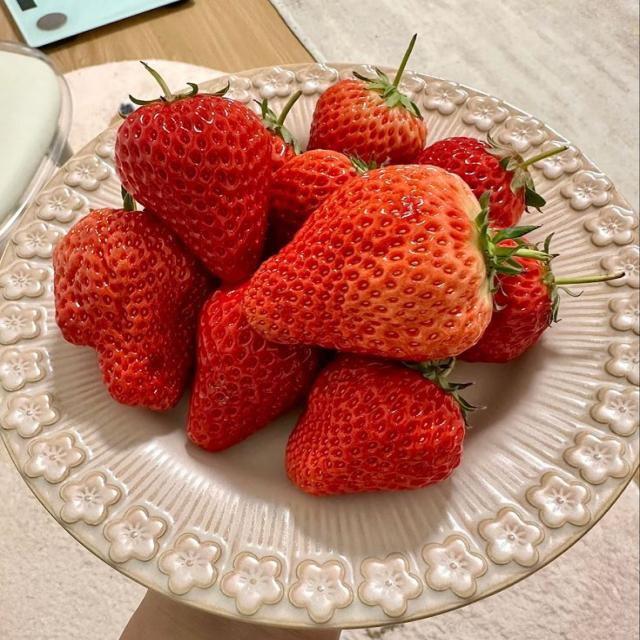strawberry: (244, 165, 545, 361), (115, 66, 271, 282), (54, 209, 210, 410), (286, 354, 464, 494), (188, 285, 321, 450), (459, 257, 623, 362), (308, 36, 426, 165), (418, 137, 566, 228), (270, 150, 370, 249), (256, 91, 301, 172)
